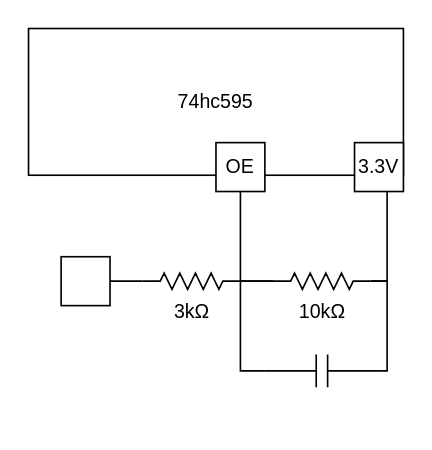
The diagram is 432 pixels wide and 450 high, and some of its shapes have lost their labels. Each missing label, with the box of its shape:
470µF: (263, 353, 379, 387)
GND: (59, 255, 110, 306)
